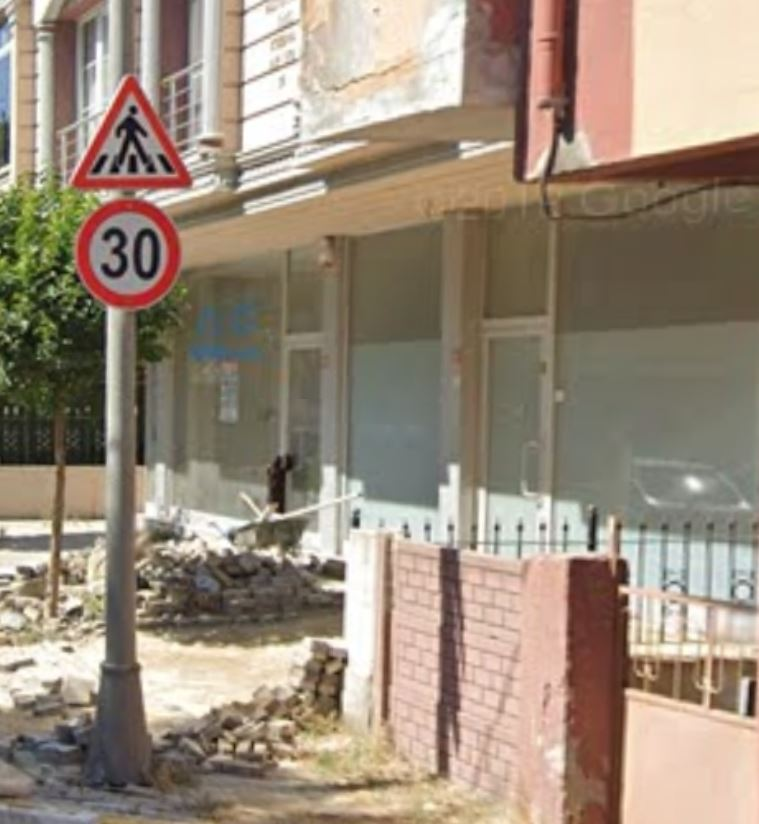30 Km Hiz Siniri: (70, 192, 186, 317)
Yaya Gecidi: (73, 69, 202, 189)
